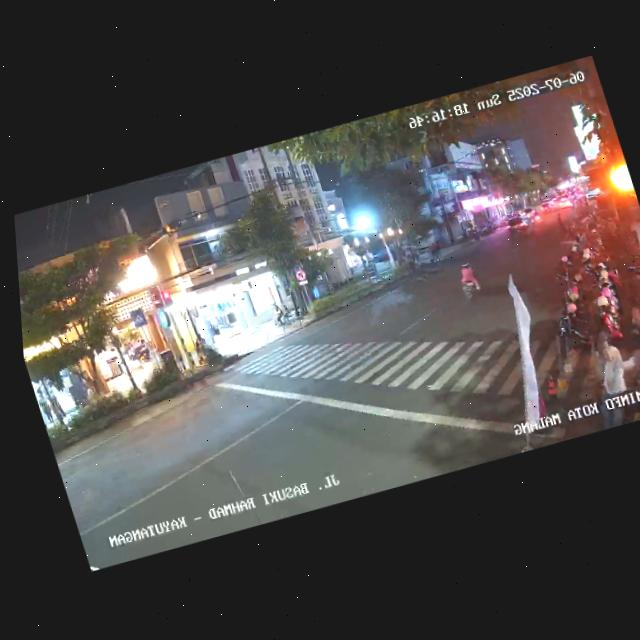car: (502, 212, 536, 239)
motorcycle: (451, 259, 487, 304)
person: (592, 343, 640, 426), (583, 324, 627, 387), (46, 386, 69, 428), (34, 386, 56, 426)
